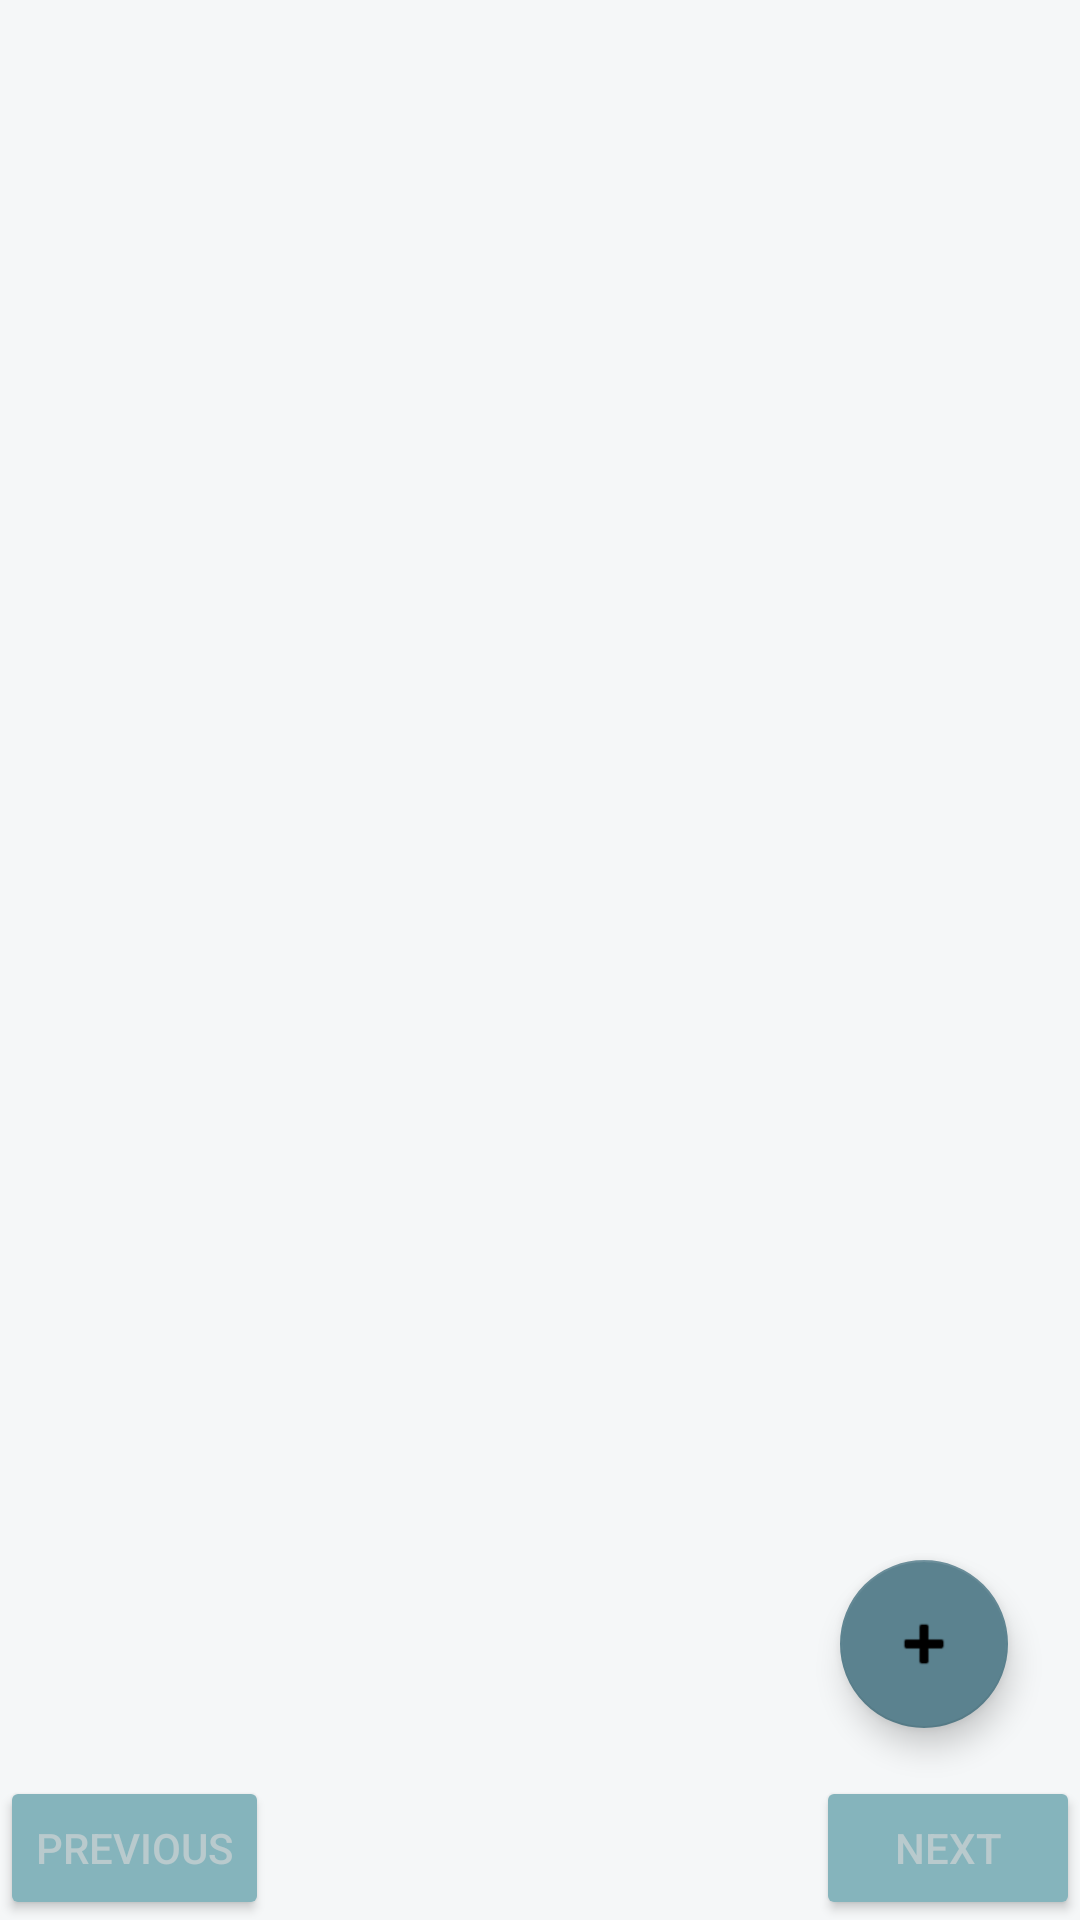

Screen size 1080px×1920px. Icon name, then its box in pixels as (x1, y1, x2, y2):
add: (840, 1560, 1008, 1728)
